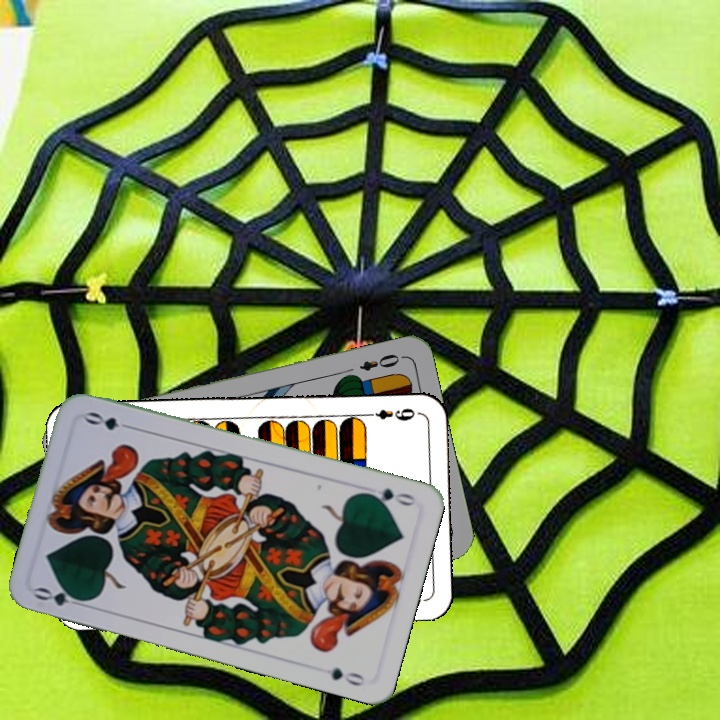E9: (361, 404, 417, 423)
EO: (355, 349, 407, 374)
GO: (30, 582, 91, 610), (359, 484, 417, 509)
